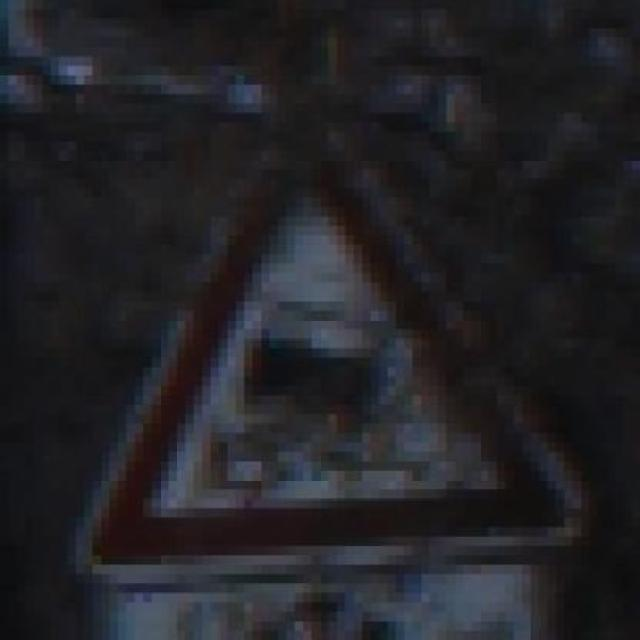Slippery Road Ahead: (67, 94, 590, 583)
